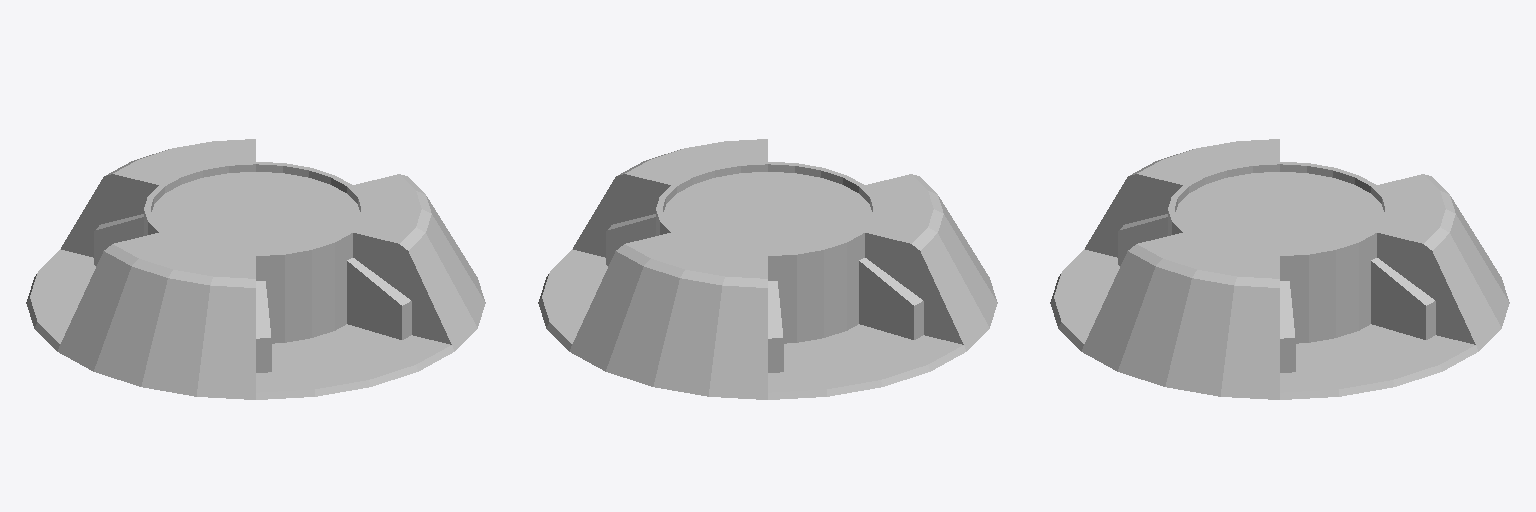
File: Apollo_ParachuteMount_forAO.obj
3 renders of one model, left to right at view 1: azimuth 30°, elevation 25°; view 2: azimuth 150°, elevation 25°; view 3: azimuth 270°, elevation 25°, orthographic.
Parts seen in each view (by area): view 1: polySurface159 Apollo_ParachuteMount7; view 2: polySurface159 Apollo_ParachuteMount7; view 3: polySurface159 Apollo_ParachuteMount7.
Boxes of the visible parts, <box> form: polySurface159 Apollo_ParachuteMount7: <box>26,139,485,399</box>; polySurface159 Apollo_ParachuteMount7: <box>538,139,997,399</box>; polySurface159 Apollo_ParachuteMount7: <box>1050,139,1509,399</box>.
Bounding box in the file's own units: 1.25 × 0.2817 × 1.25.